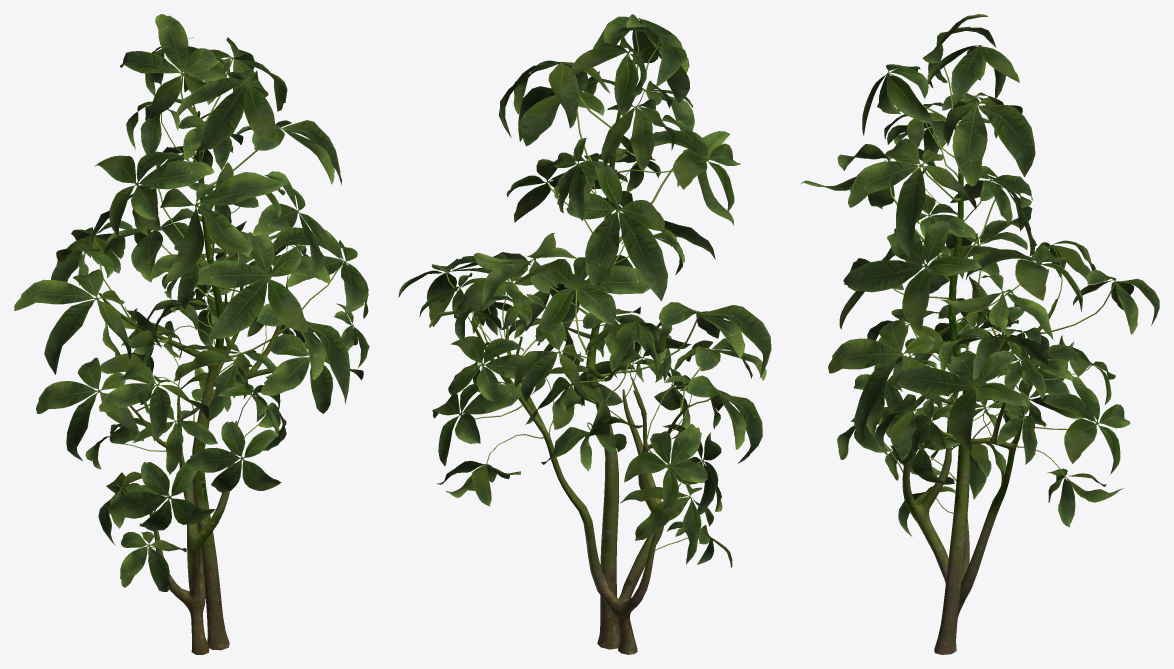
Rendered from pachira_aquatica_01.glb.
3 renders of one model, left to right at view 1: azimuth 30°, elevation 25°; view 2: azimuth 150°, elevation 25°; view 3: azimuth 270°, elevation 25°, orthographic. The views are drawn at different scales.
Parts seen in each view (by area): view 1: pachira_aquatica_01_leaves_d, pachira_aquatica_01_bark_d; view 2: pachira_aquatica_01_leaves_d, pachira_aquatica_01_bark_d; view 3: pachira_aquatica_01_leaves_d, pachira_aquatica_01_bark_d.
Part boxes in pixels (left/top/right/bottom): pachira_aquatica_01_leaves_d: left=14, top=14, right=369, bottom=591; pachira_aquatica_01_bark_d: left=99, top=111, right=287, bottom=654; pachira_aquatica_01_leaves_d: left=398, top=14, right=771, bottom=567; pachira_aquatica_01_bark_d: left=471, top=112, right=689, bottom=654; pachira_aquatica_01_leaves_d: left=801, top=14, right=1159, bottom=536; pachira_aquatica_01_bark_d: left=902, top=126, right=1057, bottom=654.
Size of the model in its own units: 1.05 by 1.9 by 0.997.
2 materials, 2 textured.
